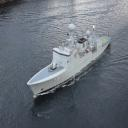Fragata: (27, 23, 118, 99)
